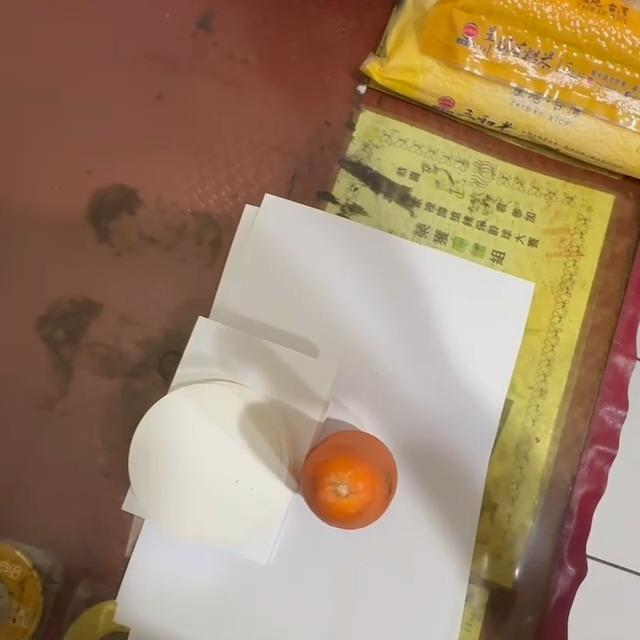carrot: (299, 430, 399, 531)
